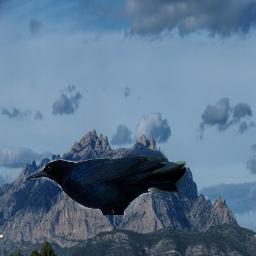Crow: (25, 155, 186, 215)
